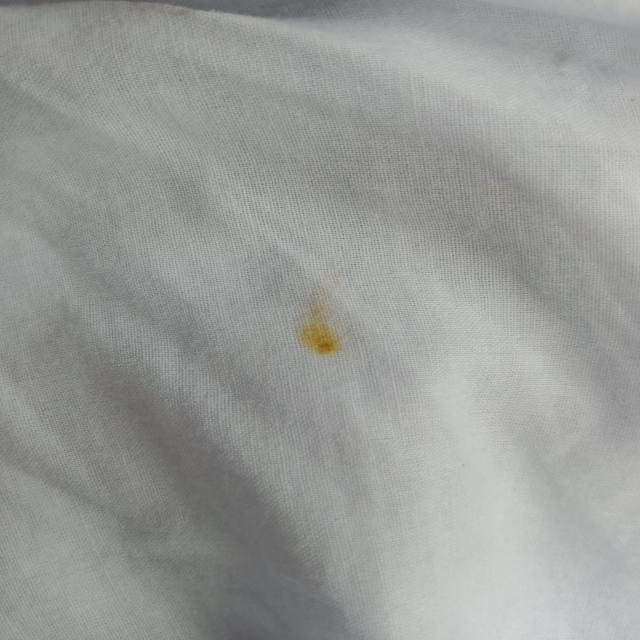stain: (284, 279, 358, 360)
